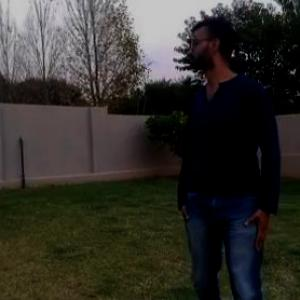follow: (174, 6, 282, 299)
